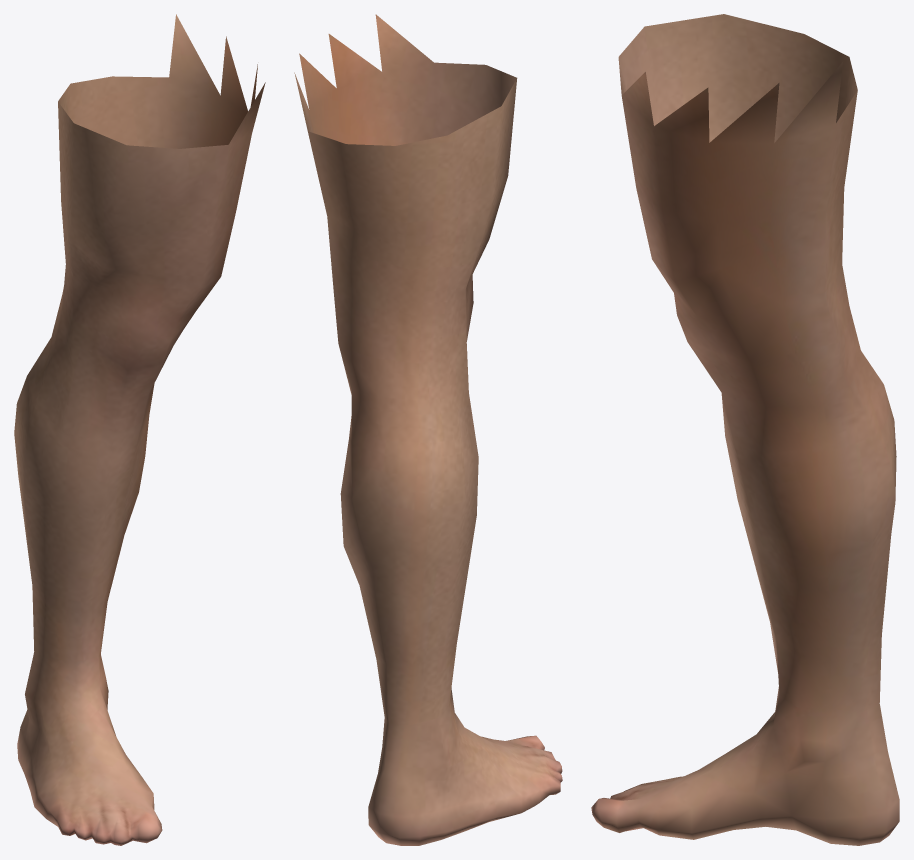
File: character_leg_l_naked.glb
The picture shows the model from 3 angles, left to right: view 1: azimuth 30°, elevation 25°; view 2: azimuth 150°, elevation 25°; view 3: azimuth 270°, elevation 25°; orthographic projection. The views are drawn at different scales.
Parts seen in each view (by area): view 1: tripo_node_bc81f8f9-a104-44a7-afac-f094b41faff7; view 2: tripo_node_bc81f8f9-a104-44a7-afac-f094b41faff7; view 3: tripo_node_bc81f8f9-a104-44a7-afac-f094b41faff7.
Boxes of the visible parts, x1,y1,x2,y2 form: tripo_node_bc81f8f9-a104-44a7-afac-f094b41faff7: [14, 14, 265, 845]; tripo_node_bc81f8f9-a104-44a7-afac-f094b41faff7: [294, 14, 562, 845]; tripo_node_bc81f8f9-a104-44a7-afac-f094b41faff7: [591, 14, 899, 845].
Bounding box in the file's own units: 0.2333 × 0.7596 × 0.2521.
1 material, 1 textured.
